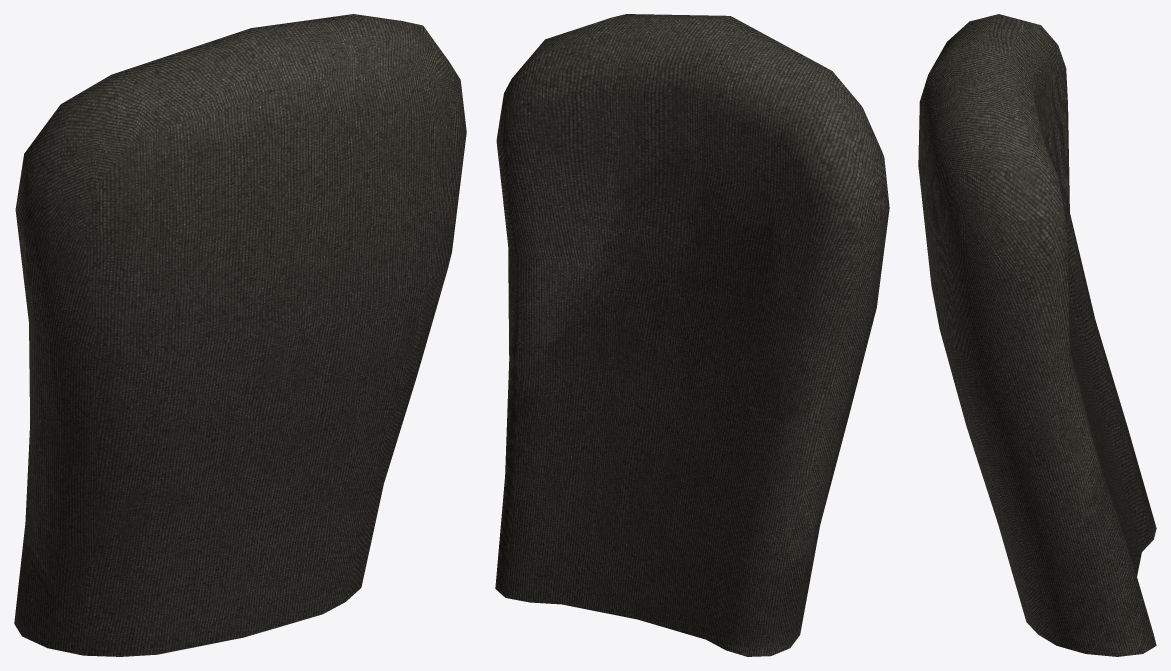
The model's file is SM_ChairBack.glb.
3 renders of one model, left to right at view 1: azimuth 30°, elevation 25°; view 2: azimuth 150°, elevation 25°; view 3: azimuth 270°, elevation 25°, orthographic. The views are drawn at different scales.
Visible parts, largest first — view 1: Cube.004; view 2: Cube.004; view 3: Cube.004.
Part boxes in pixels (bbox=[...]): Cube.004: bbox=[14, 14, 466, 656]; Cube.004: bbox=[495, 14, 889, 656]; Cube.004: bbox=[918, 14, 1156, 656].
Bounding box in the file's own units: 0.053 × 0.0729 × 0.0292.
Materials: 1 (1 with a texture image).
